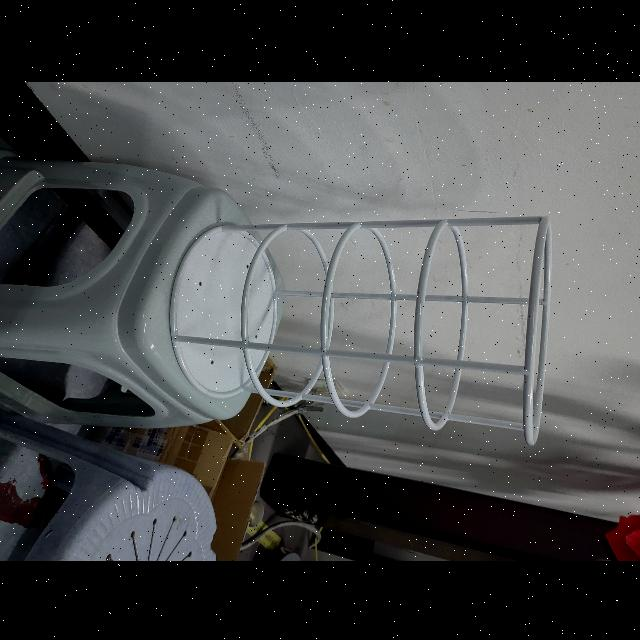S: (166, 207, 556, 448)
